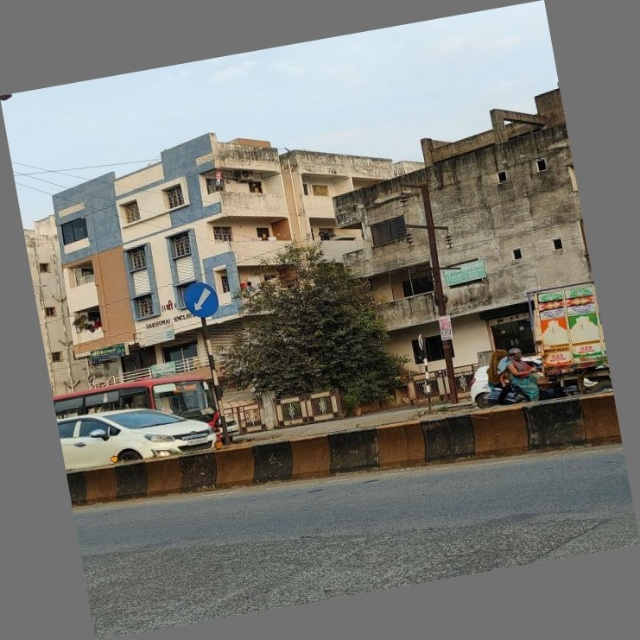R.301e: (177, 273, 231, 325)
